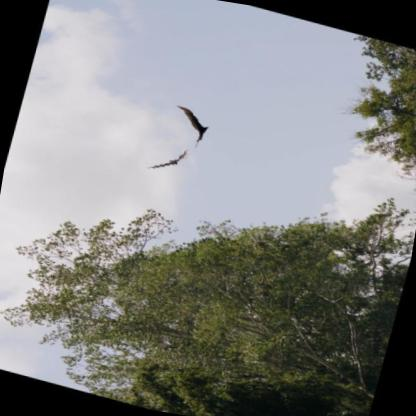bird: (165, 103, 215, 151), (141, 139, 193, 176)
